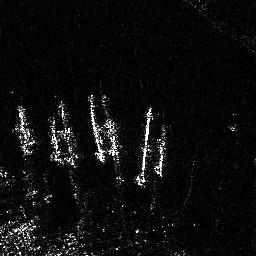ship: (87, 94, 109, 162), (136, 107, 154, 186), (16, 105, 38, 152), (48, 118, 66, 166), (154, 130, 169, 179)
